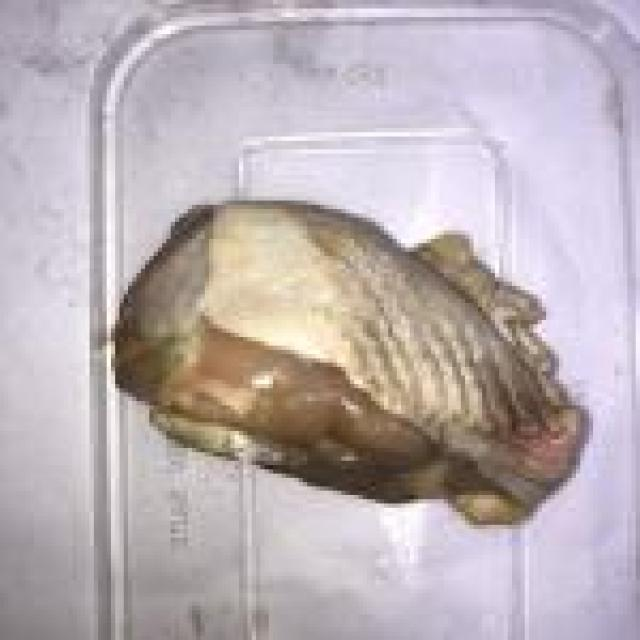breast: (78, 173, 570, 550)
